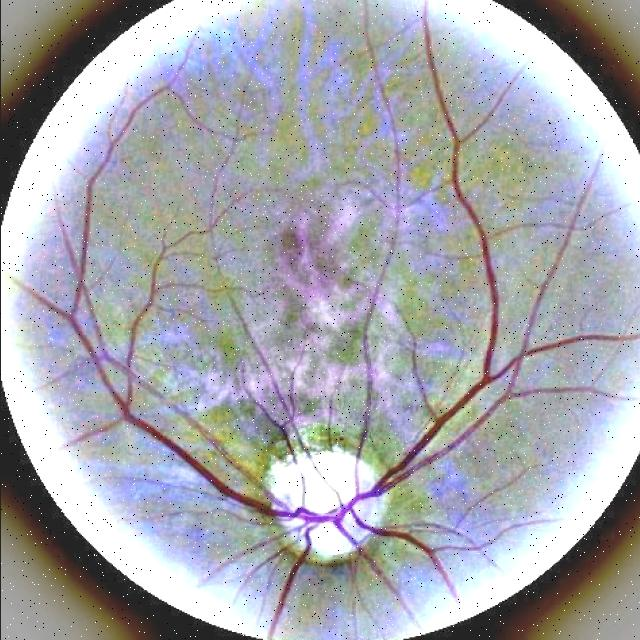Macula: (230, 197, 361, 304)
Nerves: (265, 16, 640, 536), (17, 74, 290, 521)
Optic Disk: (231, 398, 413, 588)
